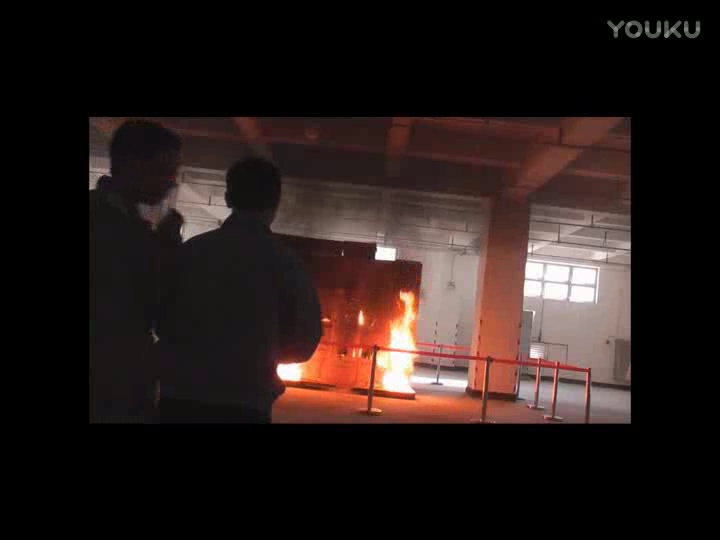fire: (376, 295, 421, 396), (272, 360, 310, 385)
